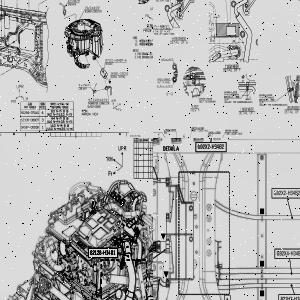PartNumber: (272, 189, 300, 196), (90, 249, 116, 256), (197, 144, 225, 150), (276, 250, 300, 256), (280, 295, 300, 300), (21, 110, 39, 114), (21, 125, 39, 129), (21, 118, 39, 122), (105, 58, 123, 62), (110, 72, 128, 75), (192, 126, 204, 130), (163, 128, 176, 131), (199, 97, 212, 100), (224, 91, 237, 94), (208, 131, 221, 133), (225, 130, 238, 132), (259, 94, 272, 96), (157, 78, 170, 80)
